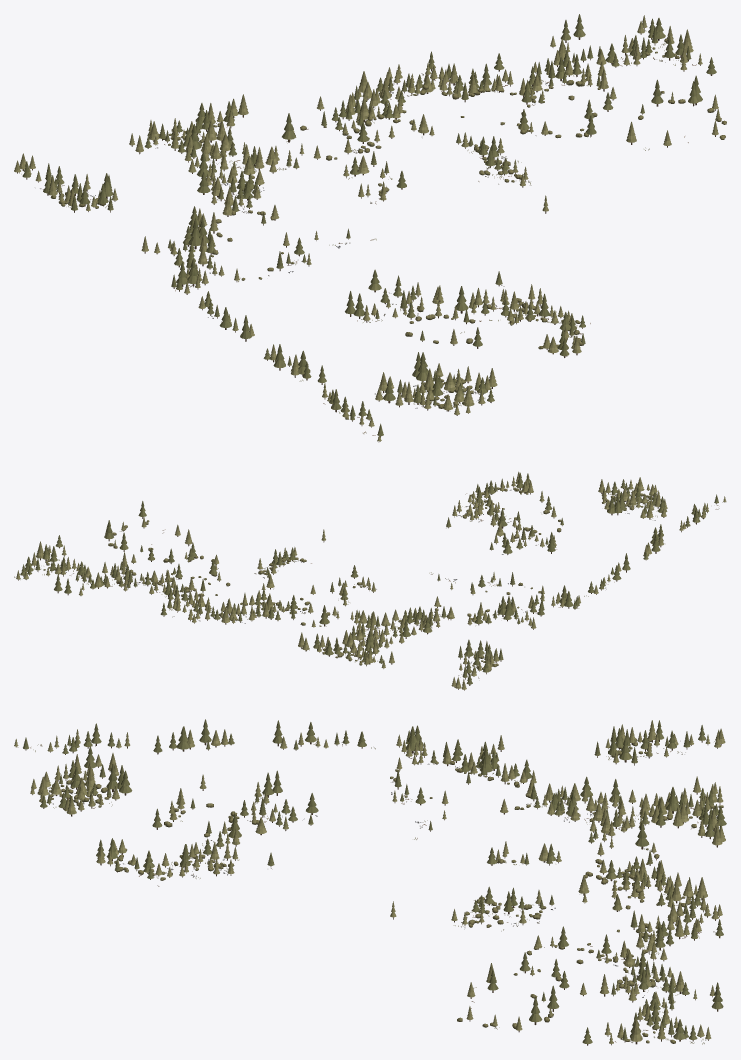
File: Foliage_P3.fbx
3 views of the same model, one above another, from view 1: azimuth 30°, elevation 25°; view 2: azimuth 150°, elevation 25°; view 3: azimuth 270°, elevation 25° (orthographic). The views are drawn at different scales.
Bounding box in the file's own units: 61821 × 5776 × 61295.
